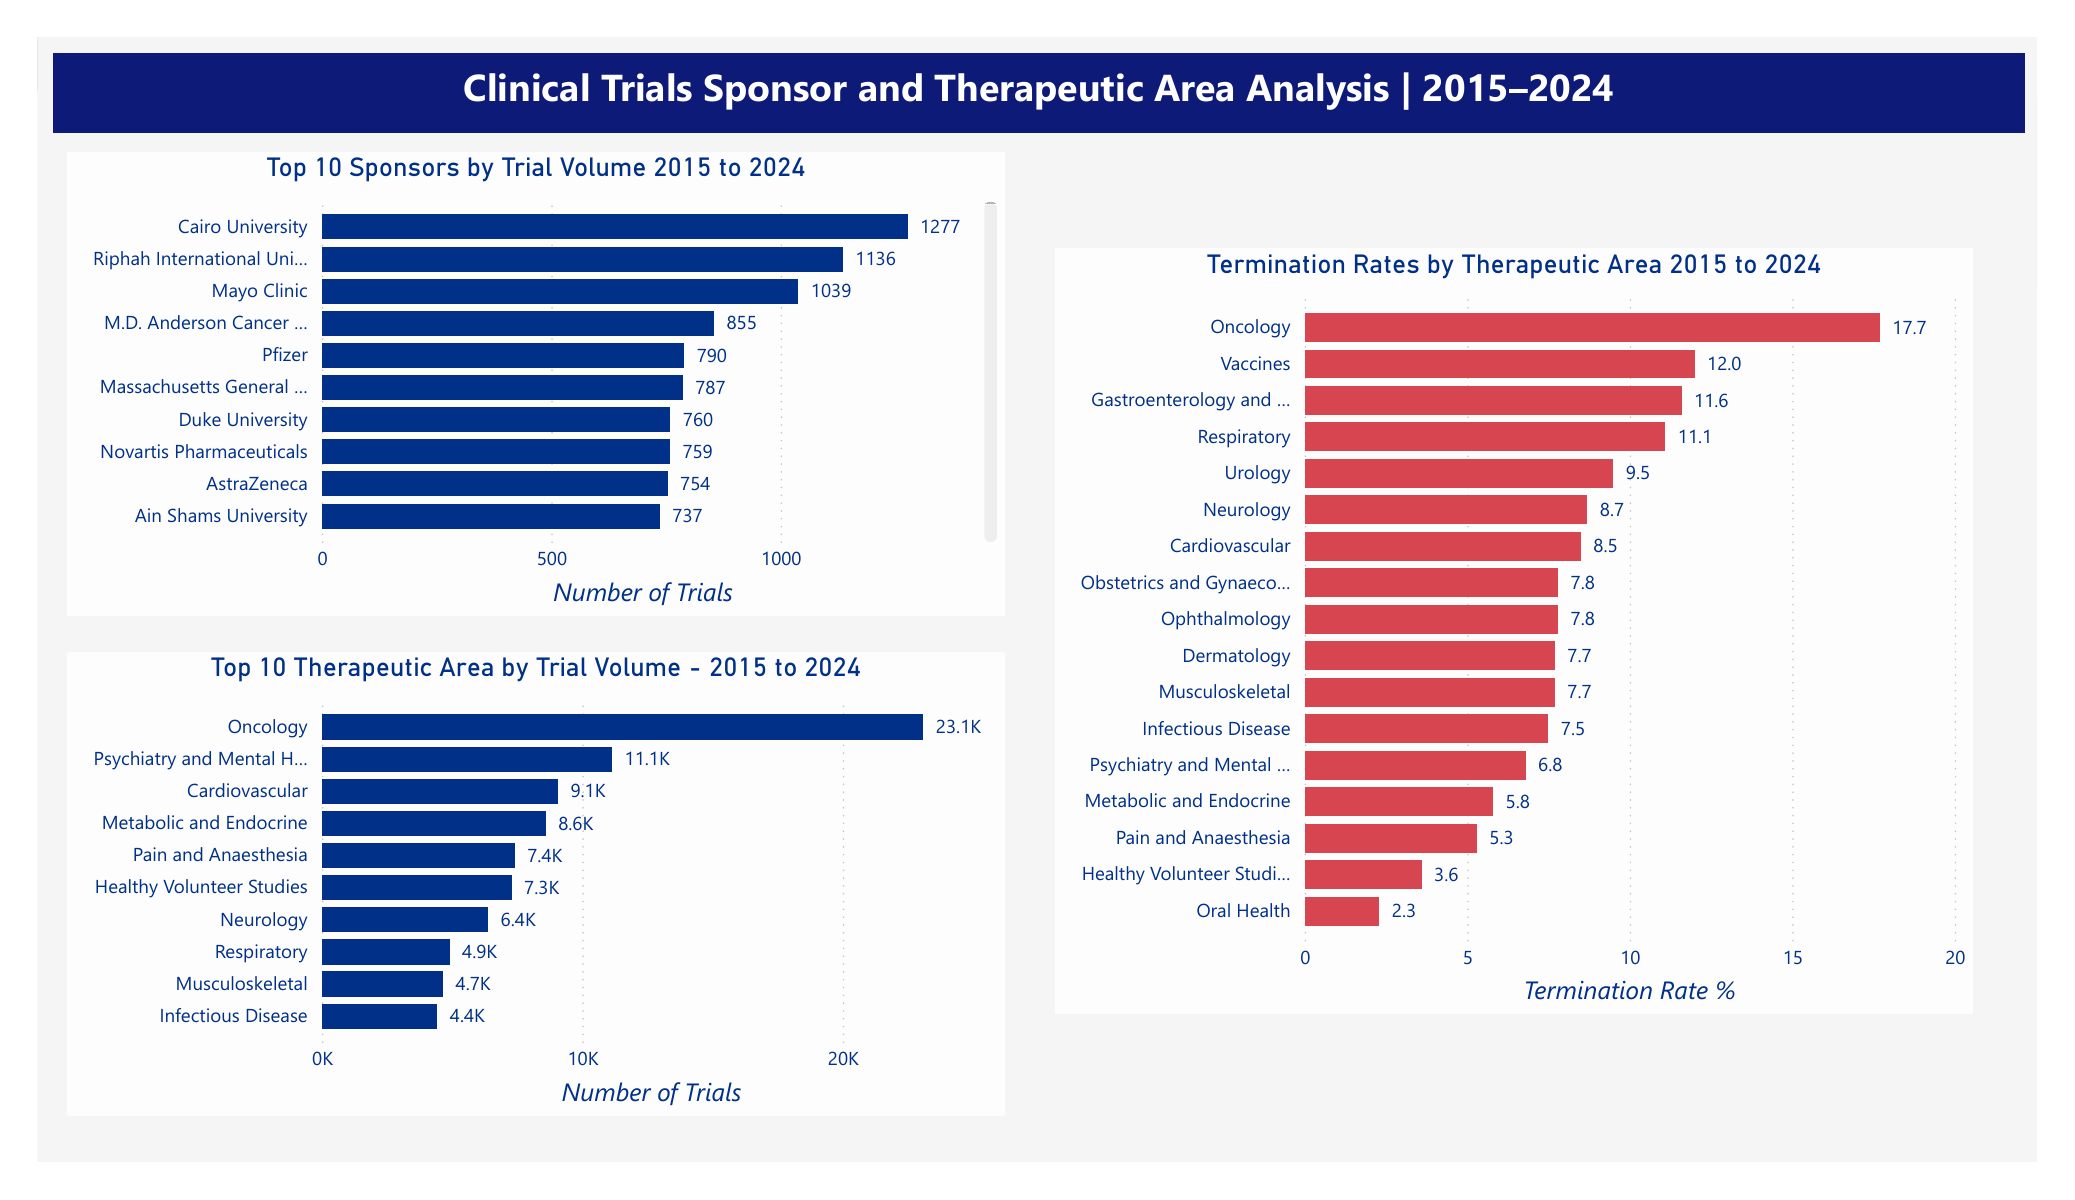

This screenshot's page, from the dashboard's own definition file:
{"tool":"powerbi","page":{"name":"Sponsor and Therapeutic Area Analysis","canvas":[1280,720],"ordinal":1},"visuals":[{"type":"textbox","box":[10,10,1262.2,51.1],"z":0},{"type":"clusteredBarChart","title":"Top 10 Sponsors by Trial Volume 2015 to 2024","fields":{"Category":["sponsor_summary.sponsor"],"Y":["Sum(sponsor_summary.total_trials)"]},"box":[18.8,72.5,600,297.5],"z":1000},{"type":"clusteredBarChart","title":"Top 10 Therapeutic Area by Trial Volume - 2015 to 2024","fields":{"Category":["therapeutic_area_summary.therapeutic_area"],"Y":["_Measures.TA Total Trials"]},"box":[18.8,392.5,600,297.5],"z":2000},{"type":"clusteredBarChart","title":"Termination Rates by Therapeutic Area 2015 to 2024","fields":{"Category":["therapeutic_area_summary.therapeutic_area"],"Y":["_Measures.TA Termination Rate"]},"box":[651.2,135,587.5,490],"z":3000}]}

Visuals, with their boxes on the page's 1280x720 design canvas (x1, y1, x2, y2). These are canvas units, not pixel positions in the 2075x1200 screenshot, which may show the page scaled, cropped or inside an application window:
textbox: x1=10, y1=10, x2=1272, y2=61
"Top 10 Sponsors by Trial Volume 2015 to 2024" clusteredBarChart: x1=19, y1=72, x2=619, y2=370
"Top 10 Therapeutic Area by Trial Volume - 2015 to 2024" clusteredBarChart: x1=19, y1=392, x2=619, y2=690
"Termination Rates by Therapeutic Area 2015 to 2024" clusteredBarChart: x1=651, y1=135, x2=1239, y2=625
